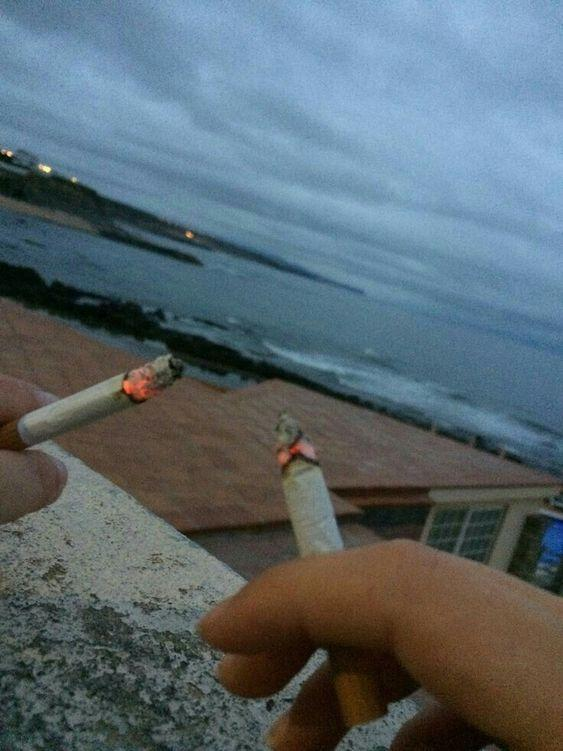cigarette: (275, 409, 391, 730), (0, 353, 182, 450)
